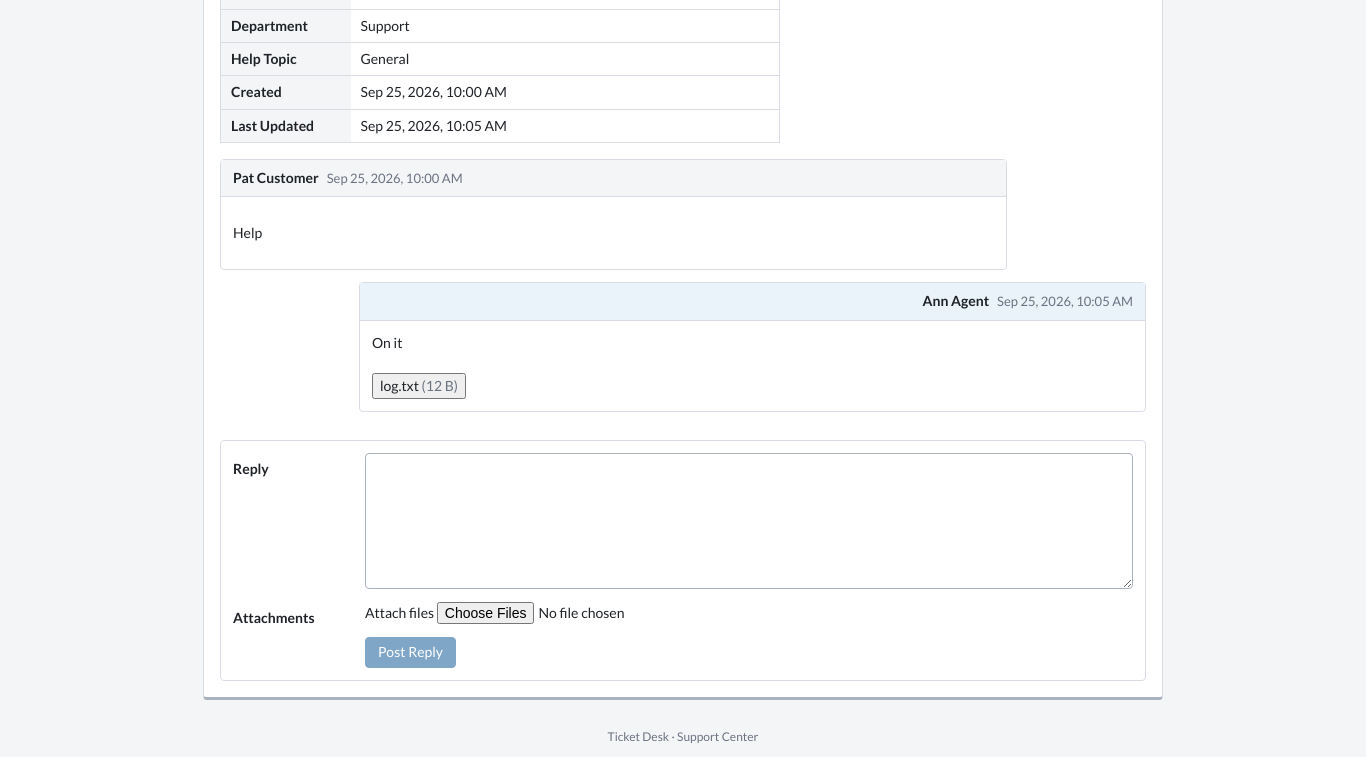
Test: a reply to a ticket that has gone flashes Ticket not found and returns to the list
(page scrolled)
Type "Hello?" into the text box labelled "Reply" at {"x": 749, "y": 521}, box [365,453,1133,589]
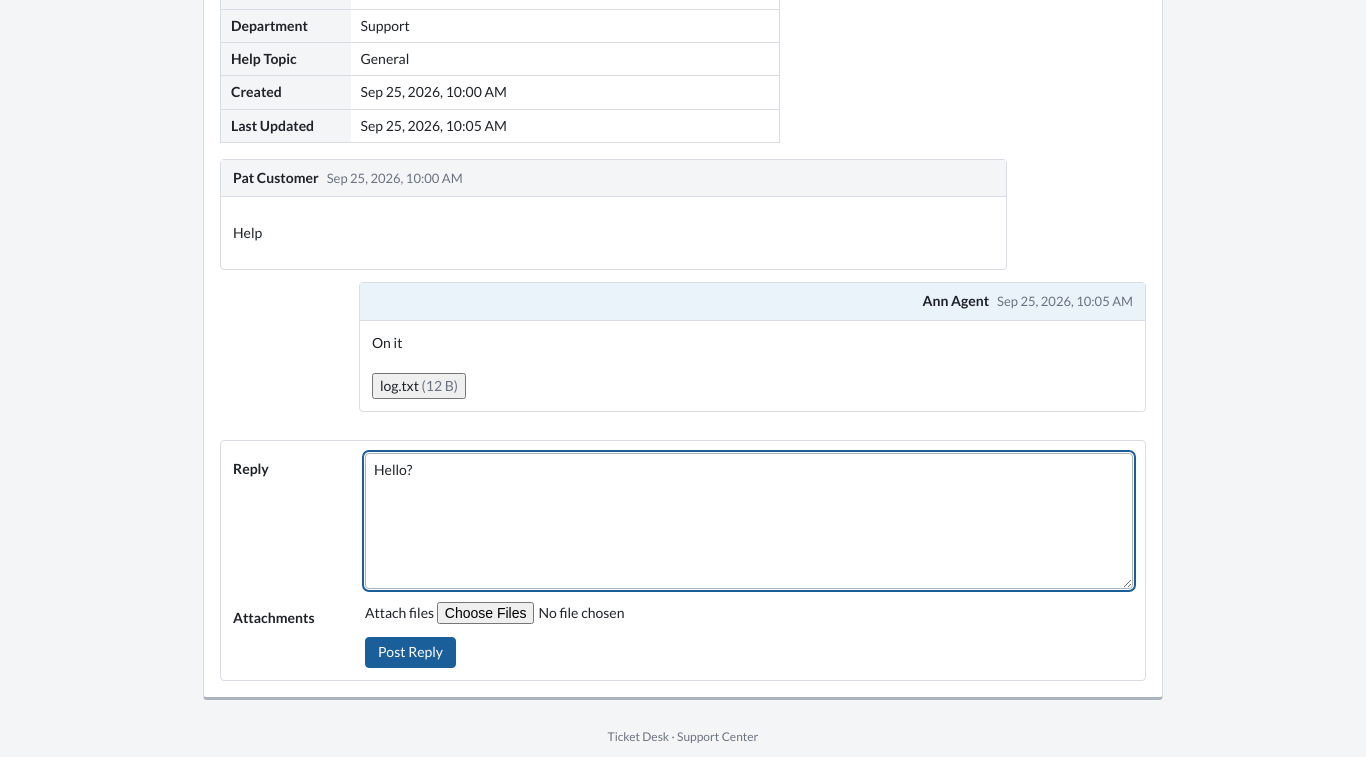
Click the button "Post Reply" at {"x": 410, "y": 652}, box [365,637,456,668]
(page scrolled)
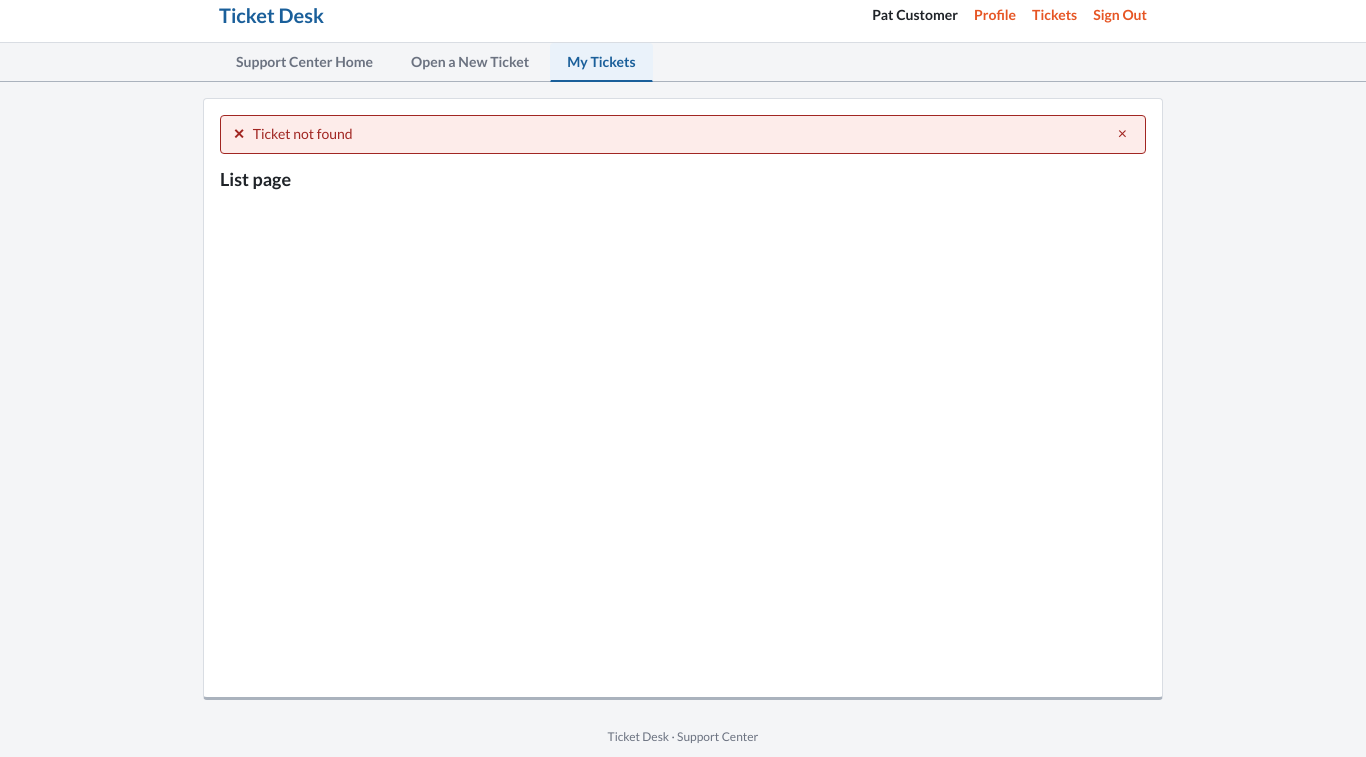
Expected: the heading "List page" is shown, [220,168,291,190]
Expected: the message shows "Ticket not found", [253,125,353,142]
